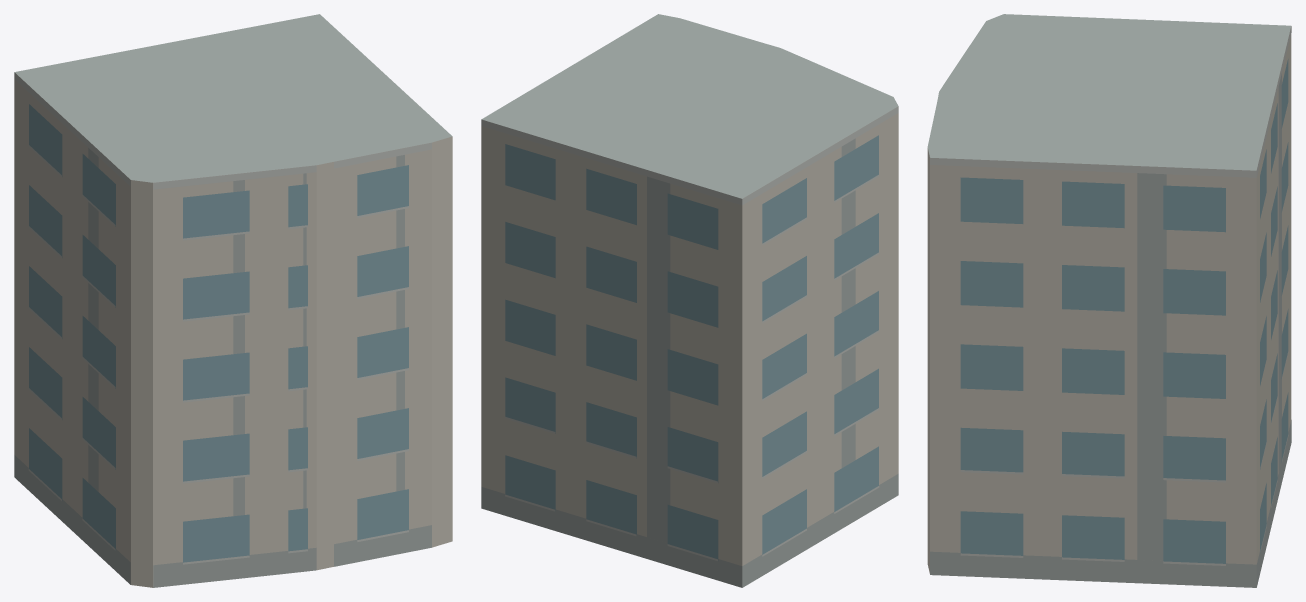
The model's file is survey-upis-33027807.glb.
3 views of the same model, side by side, from view 1: azimuth 30°, elevation 25°; view 2: azimuth 150°, elevation 25°; view 3: azimuth 270°, elevation 25° (orthographic). The views are drawn at different scales.
Parts seen in each view (by area): view 1: survey-upis-33027807.tmp; view 2: survey-upis-33027807.tmp; view 3: survey-upis-33027807.tmp.
Part boxes in pixels (x1,y1,x2,y2): survey-upis-33027807.tmp: (14,14,452,587); survey-upis-33027807.tmp: (481,14,898,587); survey-upis-33027807.tmp: (927,14,1291,587).
Bounding box in the file's own units: 11.53 × 14.3 × 11.31.
